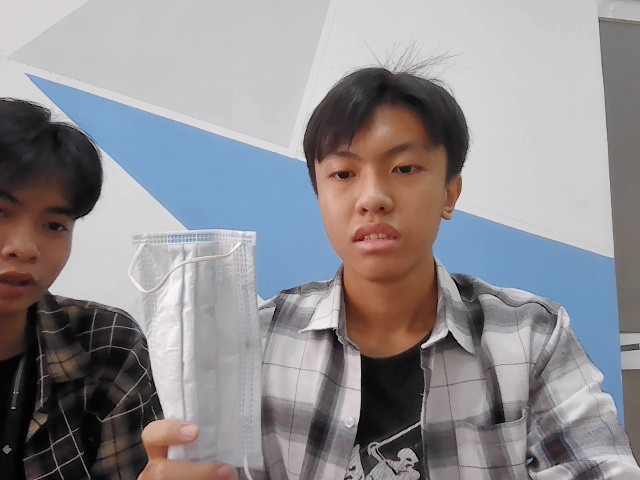human: (310, 70, 468, 276), (1, 98, 98, 309)
mask: (129, 229, 267, 462)
